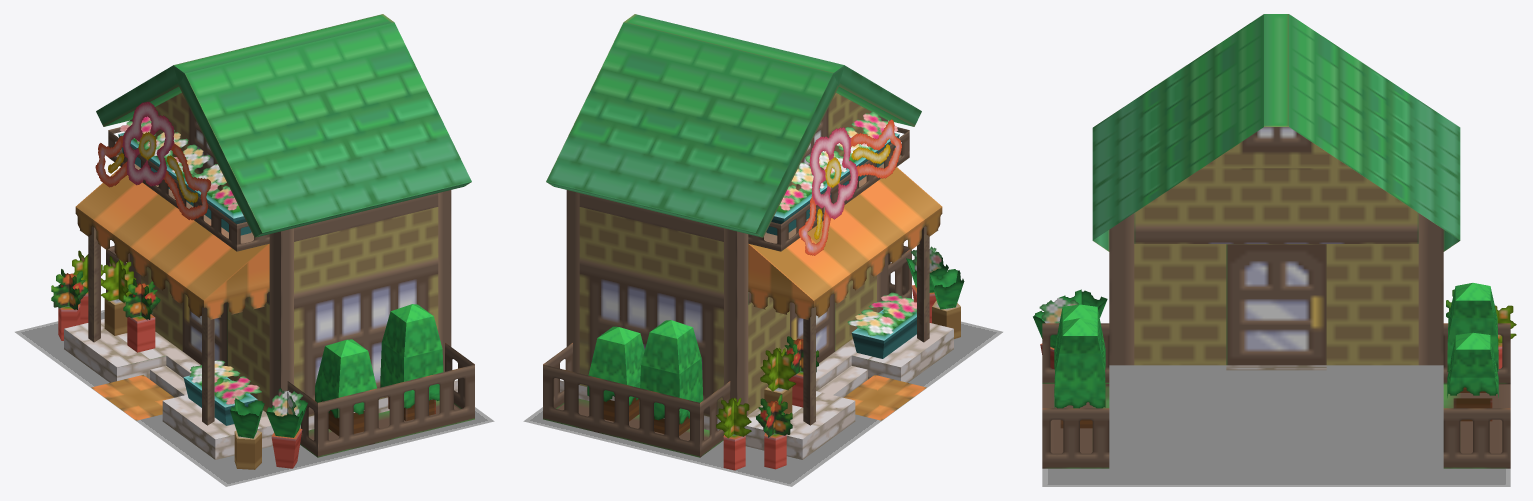
The picture shows the model from 3 angles, left to right: view 1: azimuth 30°, elevation 25°; view 2: azimuth 150°, elevation 25°; view 3: azimuth 270°, elevation 25°; orthographic projection. The views are drawn at different scales.
Visible parts, largest first — view 1: polygon2, polygon0, polygon3, polygon1; view 2: polygon0, polygon2, polygon3, polygon1; view 3: polygon2, polygon3, polygon0.
Part boxes in pixels (left/top/right/bottom): polygon2: left=96, top=14, right=471, bottom=416; polygon0: left=51, top=116, right=474, bottom=469; polygon3: left=15, top=310, right=494, bottom=486; polygon1: left=95, top=101, right=211, bottom=220; polygon0: left=543, top=111, right=964, bottom=470; polygon2: left=546, top=14, right=921, bottom=418; polygon3: left=523, top=321, right=1002, bottom=486; polygon1: left=798, top=119, right=901, bottom=255; polygon2: left=1092, top=14, right=1460, bottom=365; polygon3: left=1042, top=365, right=1510, bottom=486; polygon0: left=1033, top=213, right=1516, bottom=468.
Size of the model in its own units: 5.25 by 5.94 by 7.28.
4 materials, 4 textured.
